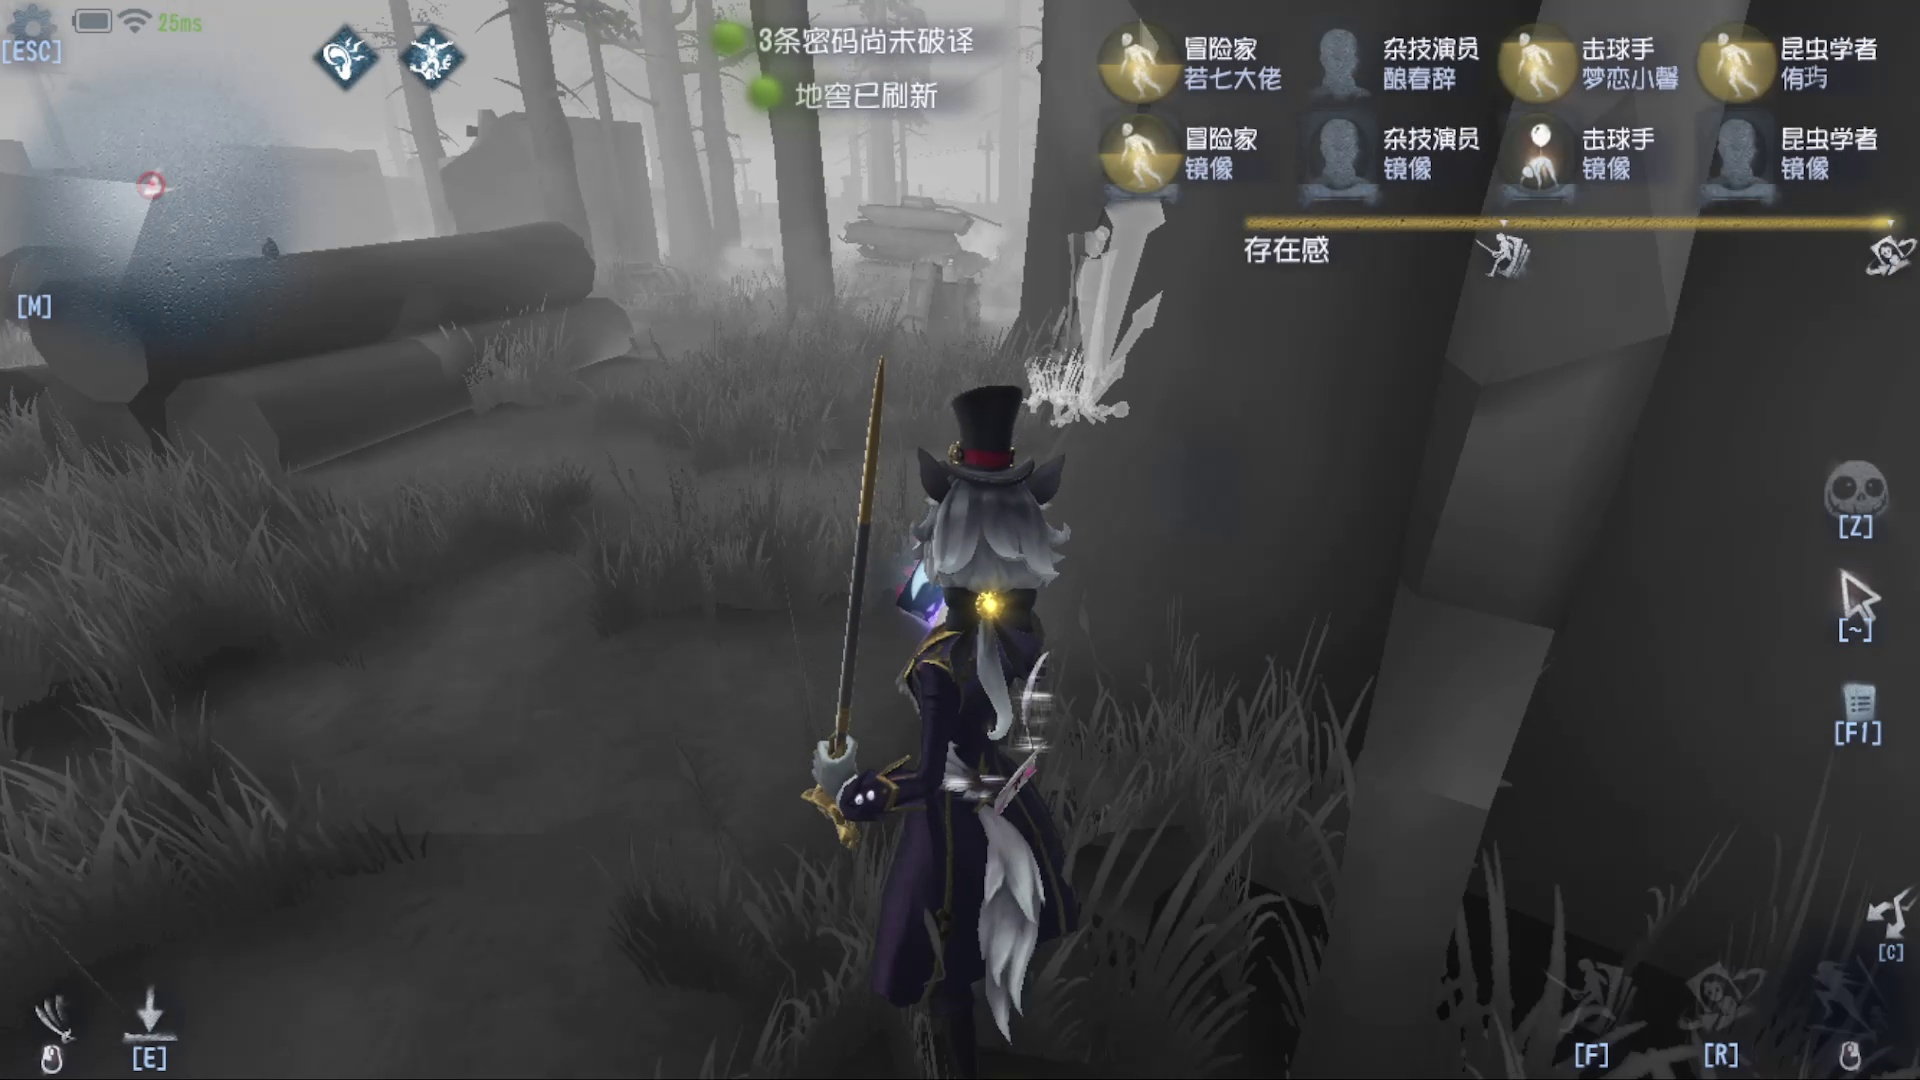狂欢之椅: (1025, 171, 1178, 422)
